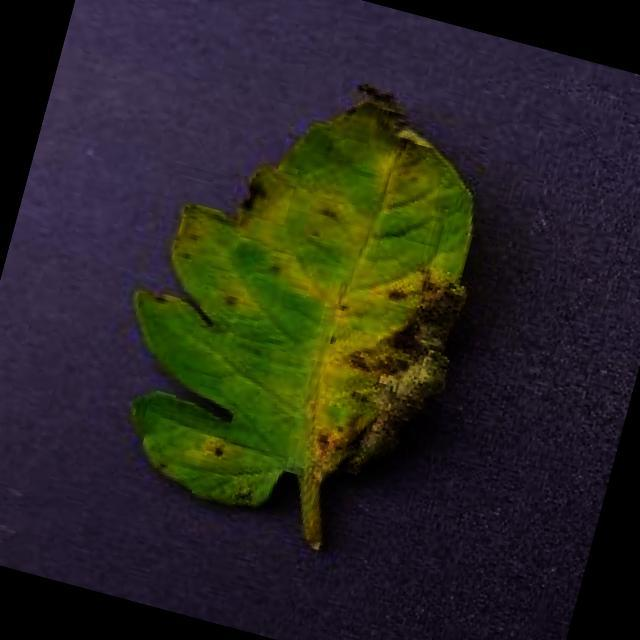Tomato Septoria spot leaf: (82, 40, 516, 552)
